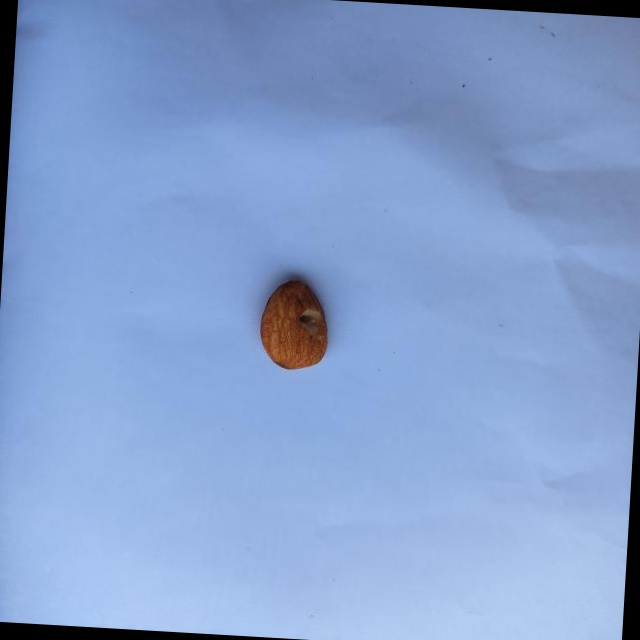grade3: (256, 273, 336, 376)
